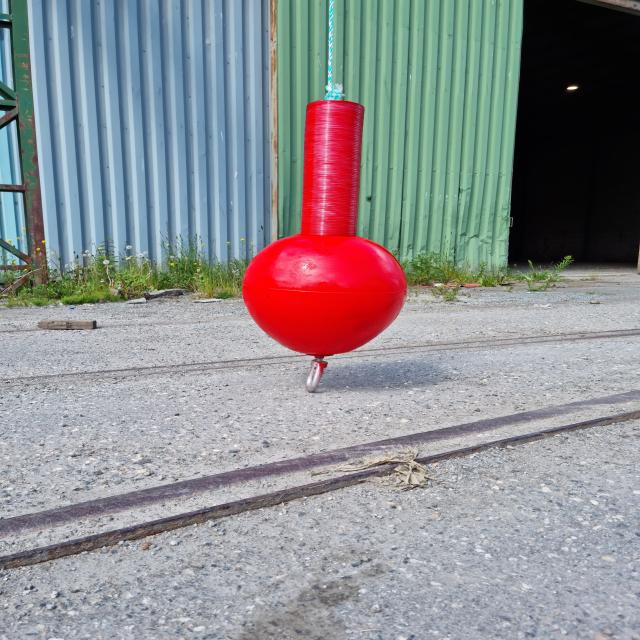red: (243, 100, 409, 356)
